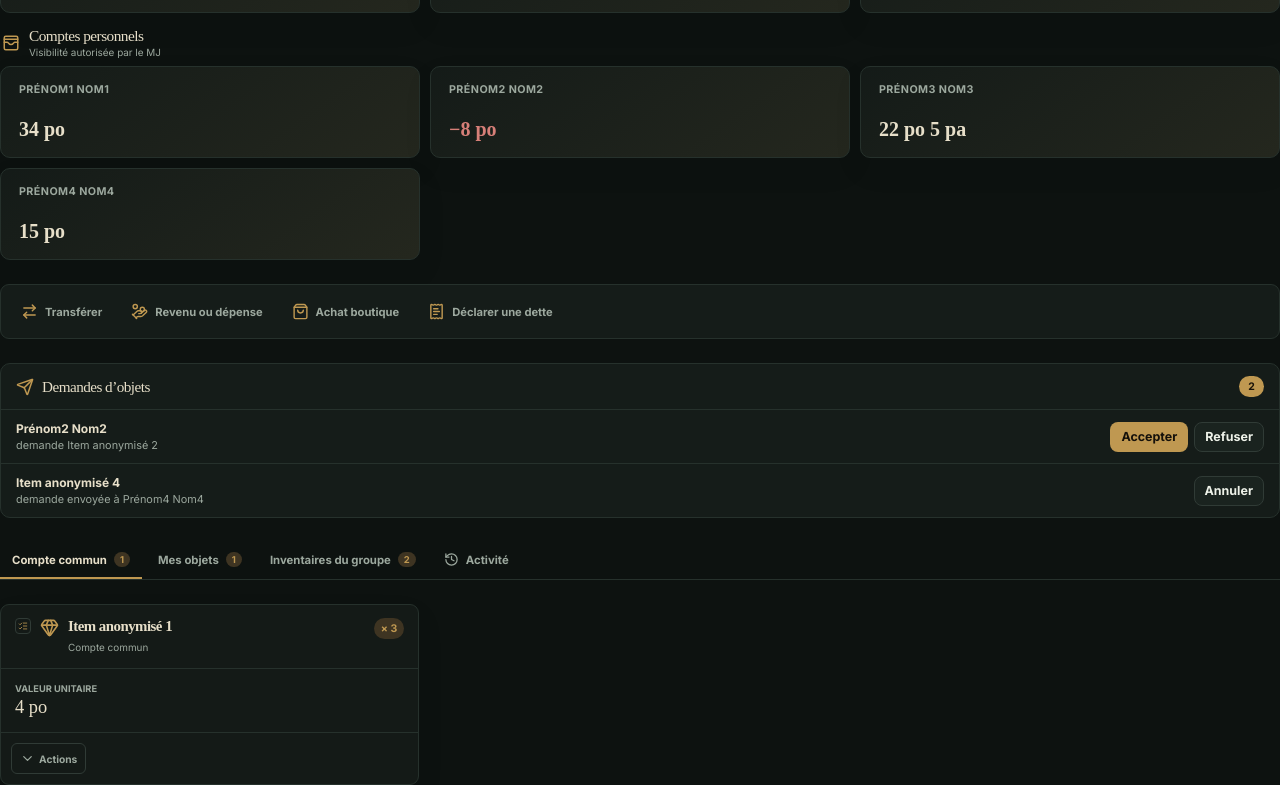
Test case: range les inventaires des autres joueurs dans des colonnes distinctes
(page scrolled)
Click the button "Inventaires du groupe 2" at (343, 560), box [258, 542, 428, 579]
(page scrolled)
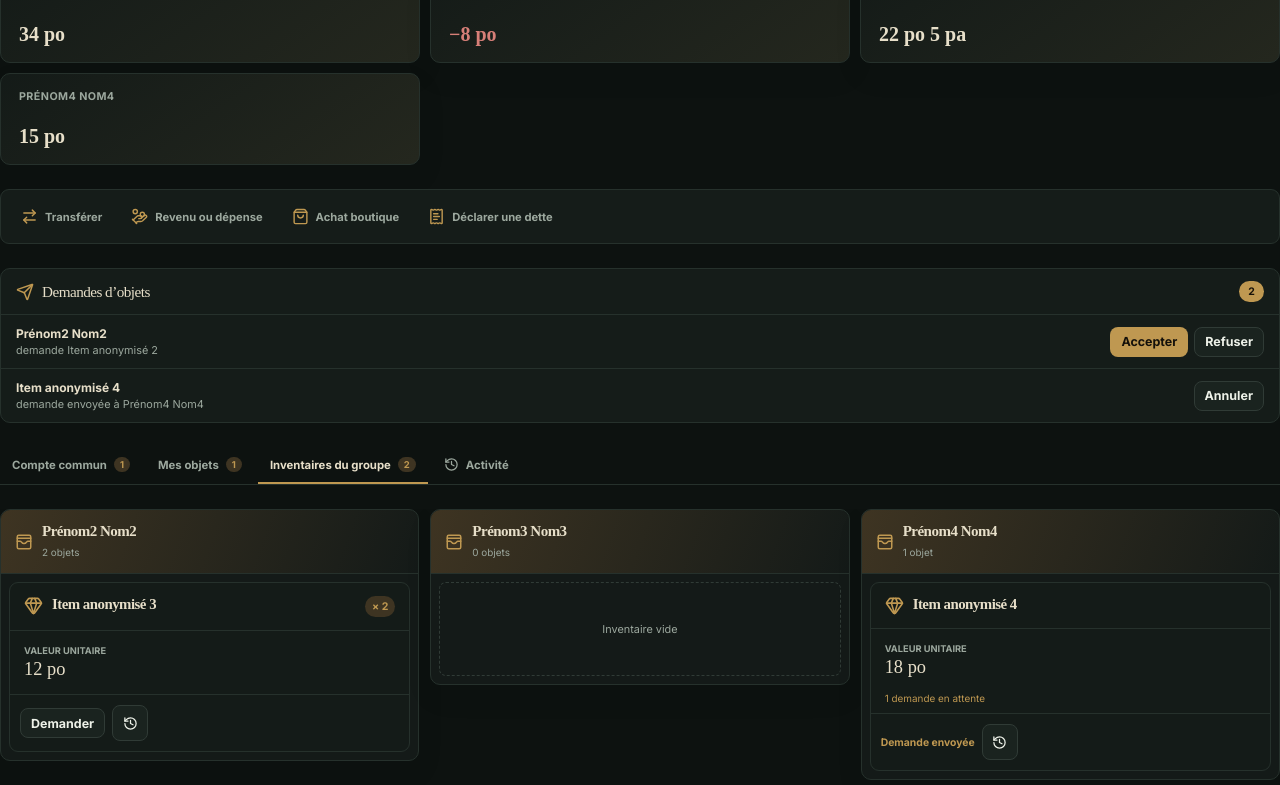
Expected: the element with class "economy-player-inventory" shows "Item anonymisé 3", [52, 596, 156, 612]
Expected: the element with class "economy-player-inventory" shows "Inventaire vide", [602, 622, 678, 636]
Expected: the element with class "economy-player-inventory" shows "Item anonymisé 4", [913, 596, 1017, 612]
